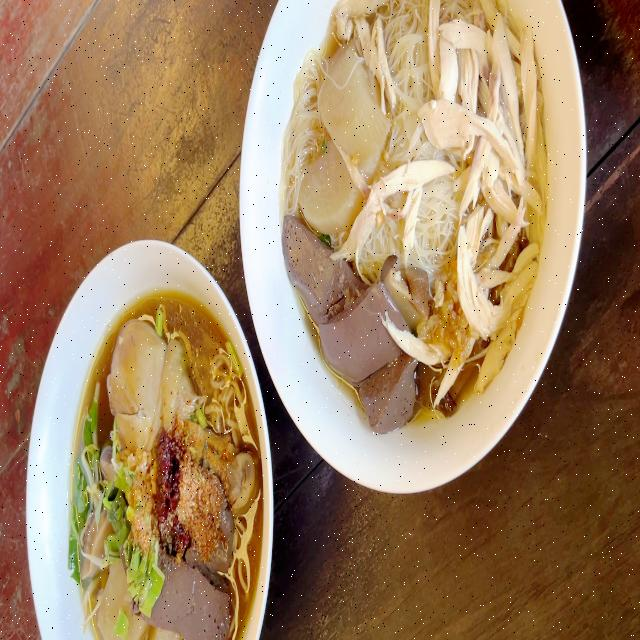boiled_chicken_blood_jelly: (282, 218, 416, 428), (158, 559, 233, 640)
chicken_drumstick: (109, 323, 261, 509)
chicken_shredded: (434, 0, 546, 222), (457, 234, 523, 346)
daikon_radish: (302, 49, 378, 232), (102, 566, 147, 640)
noodle: (295, 21, 525, 394), (72, 347, 248, 640)
